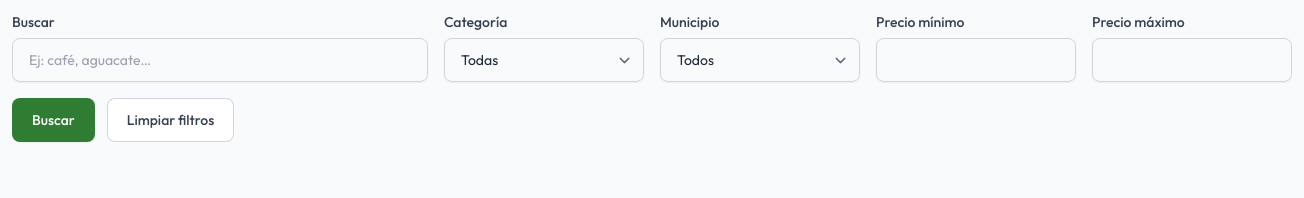
it: CatalogFilters › RTL-12 precio mínimo mayor que el máximo muestra error y no busca
The image size is (1304, 198).
In the field labelled "Precio mínimo": point(976, 60) [876, 38, 1076, 82], type "9000"
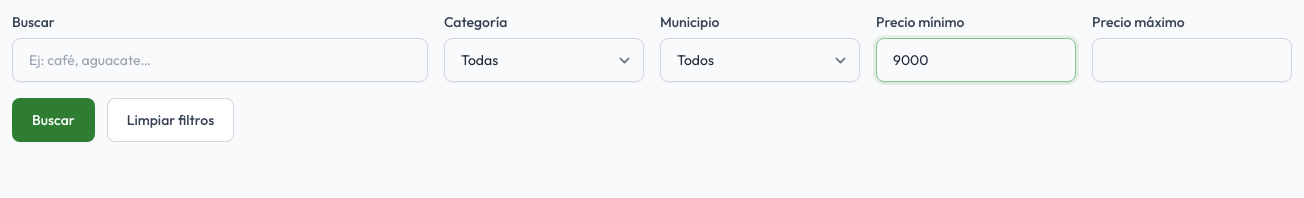
In the field labelled "Precio máximo": point(1192, 60) [1092, 38, 1292, 82], type "1000"
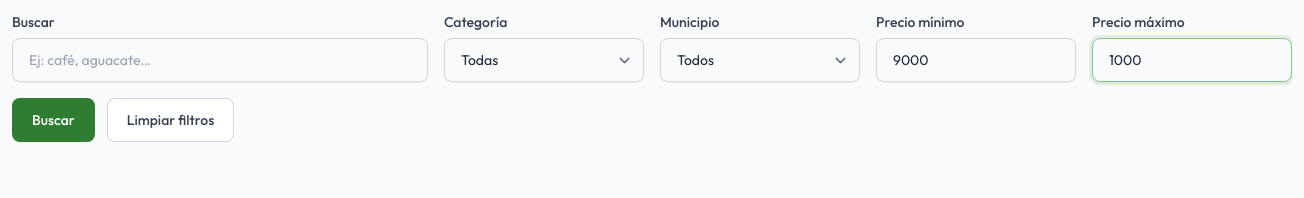
Click the button "Buscar": point(53, 120) [12, 98, 95, 142]
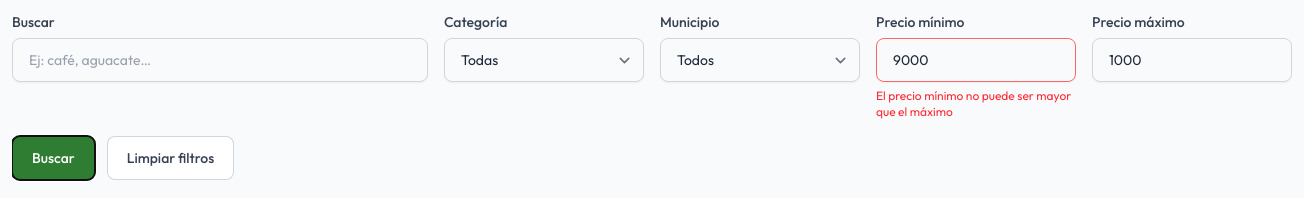
Expected: the message reads "El precio mínimo no puede ser mayor que el máximo", [876, 88, 1071, 119]
